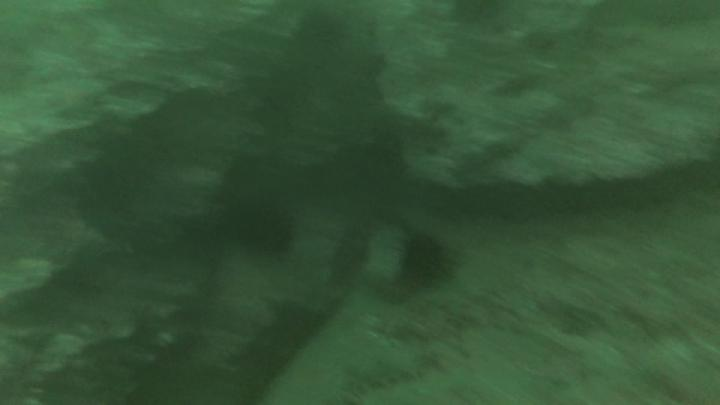echinus: (235, 202, 292, 254), (403, 237, 444, 282)
